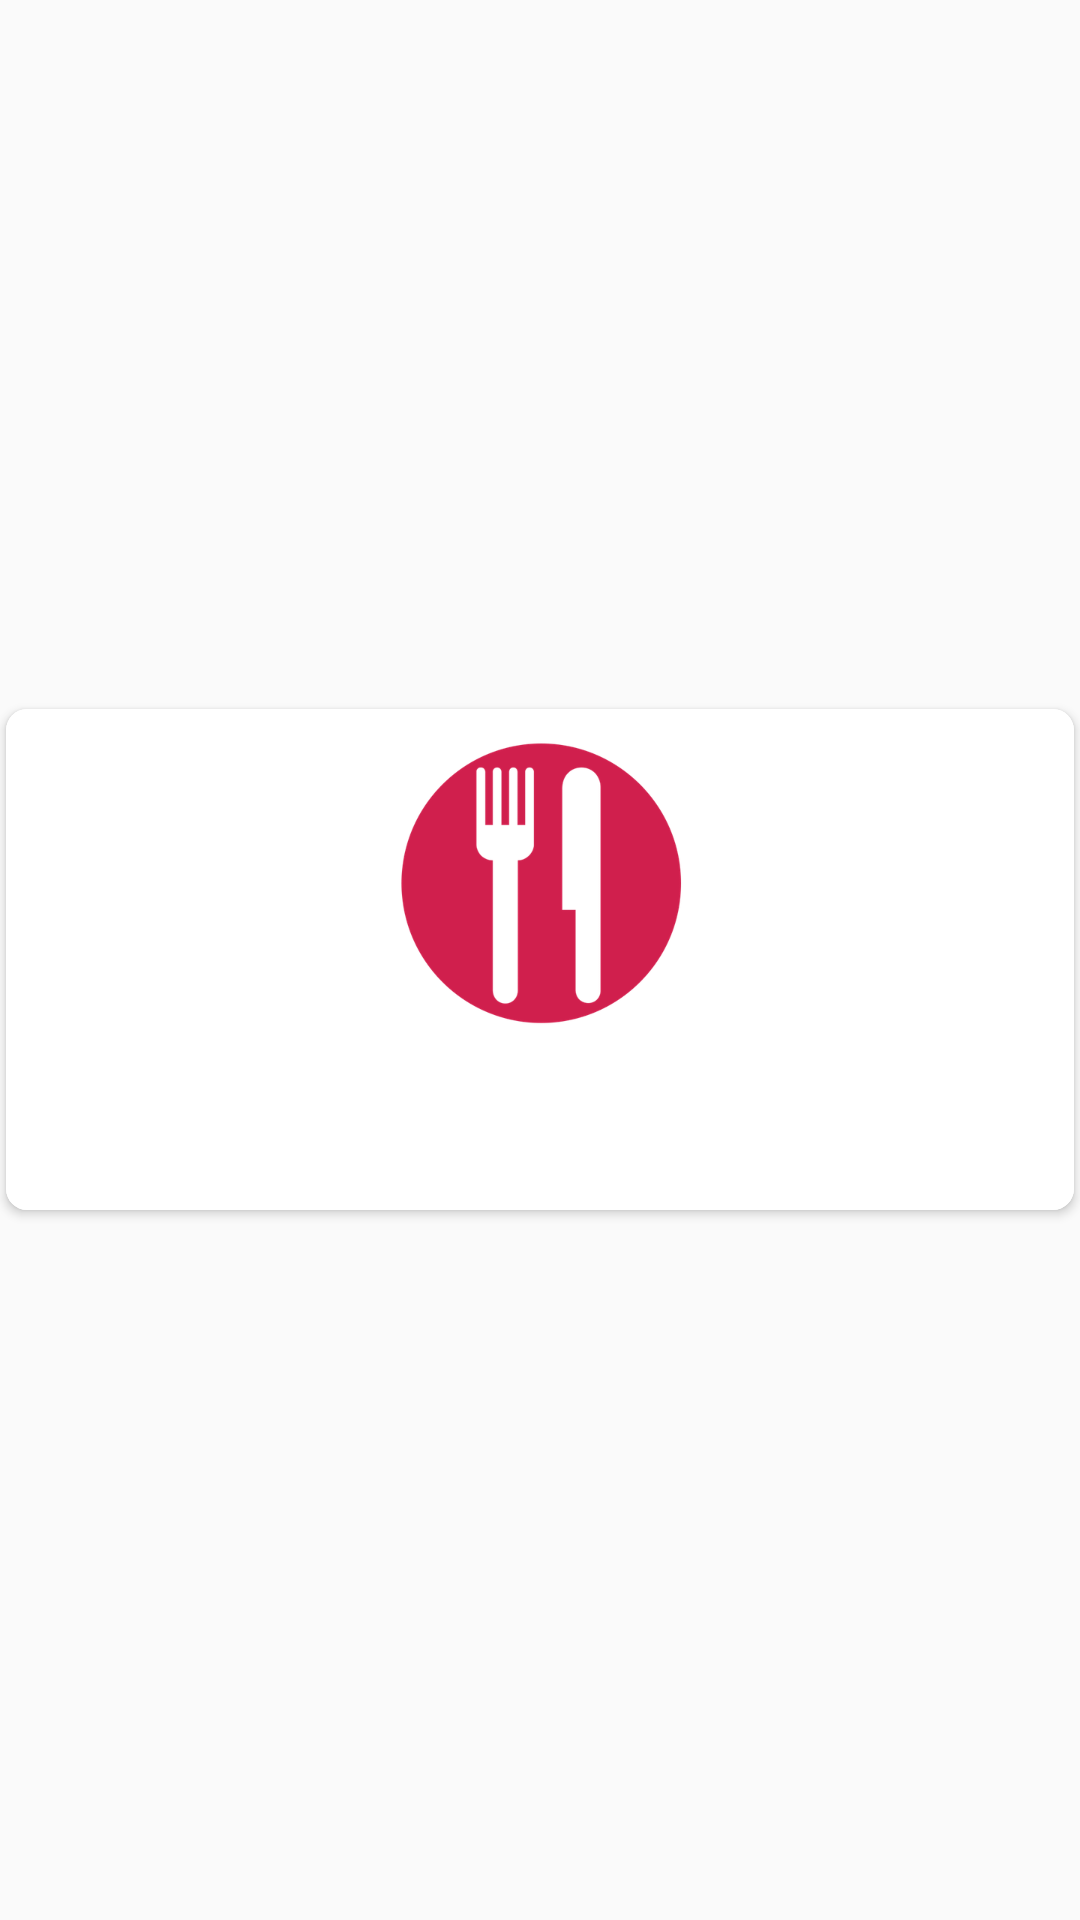

Point at icon controls on the screen. Image size 1080 × 1920, points as (x,y).
plate: (541,883)
